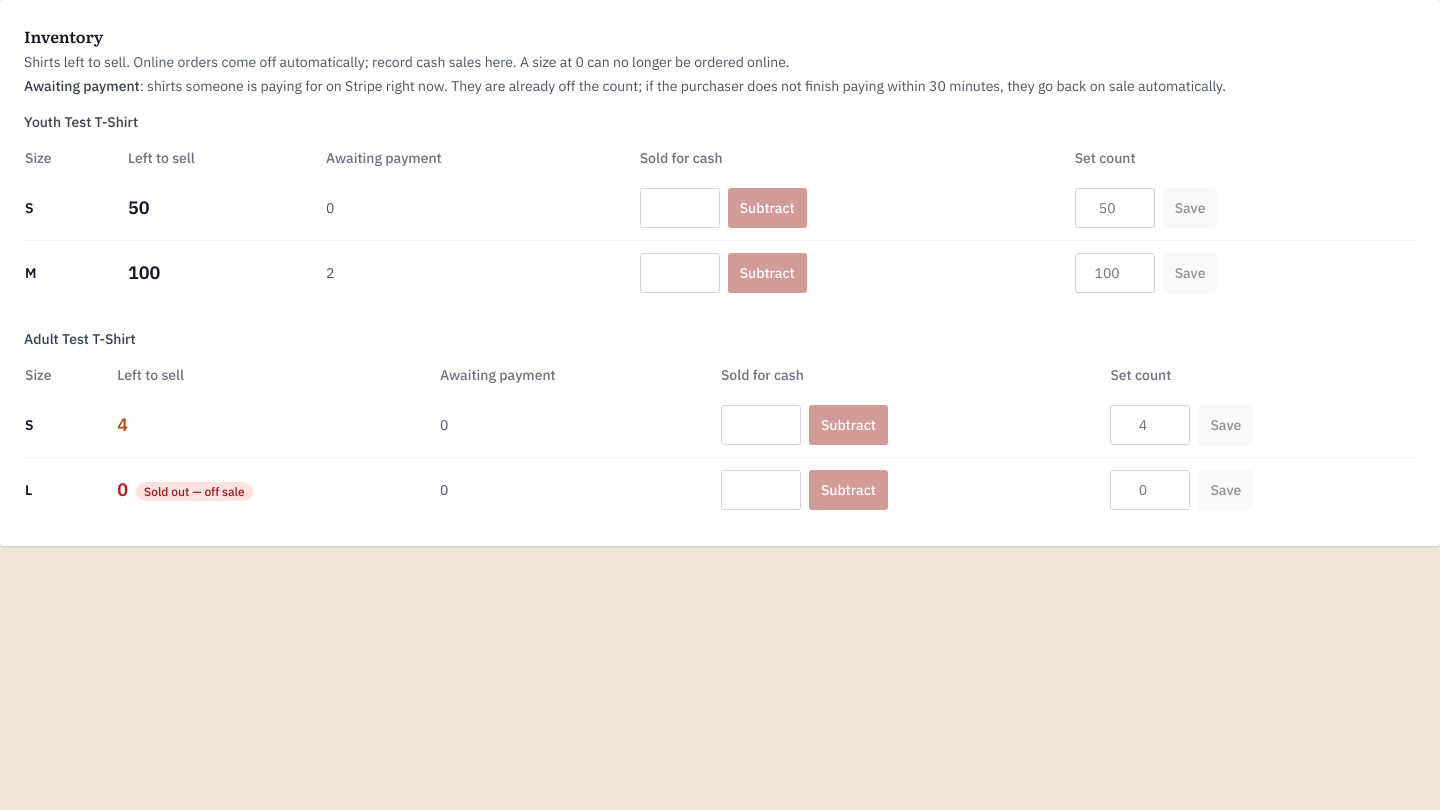
Scenario: MerchInventoryPanel › shows the new count and explains when an online order got there first
Step 1. Type "6" into the number field named "Shirts sold for cash, Youth Test T-Shirt size M" → (680, 273), box [640,253,720,293]
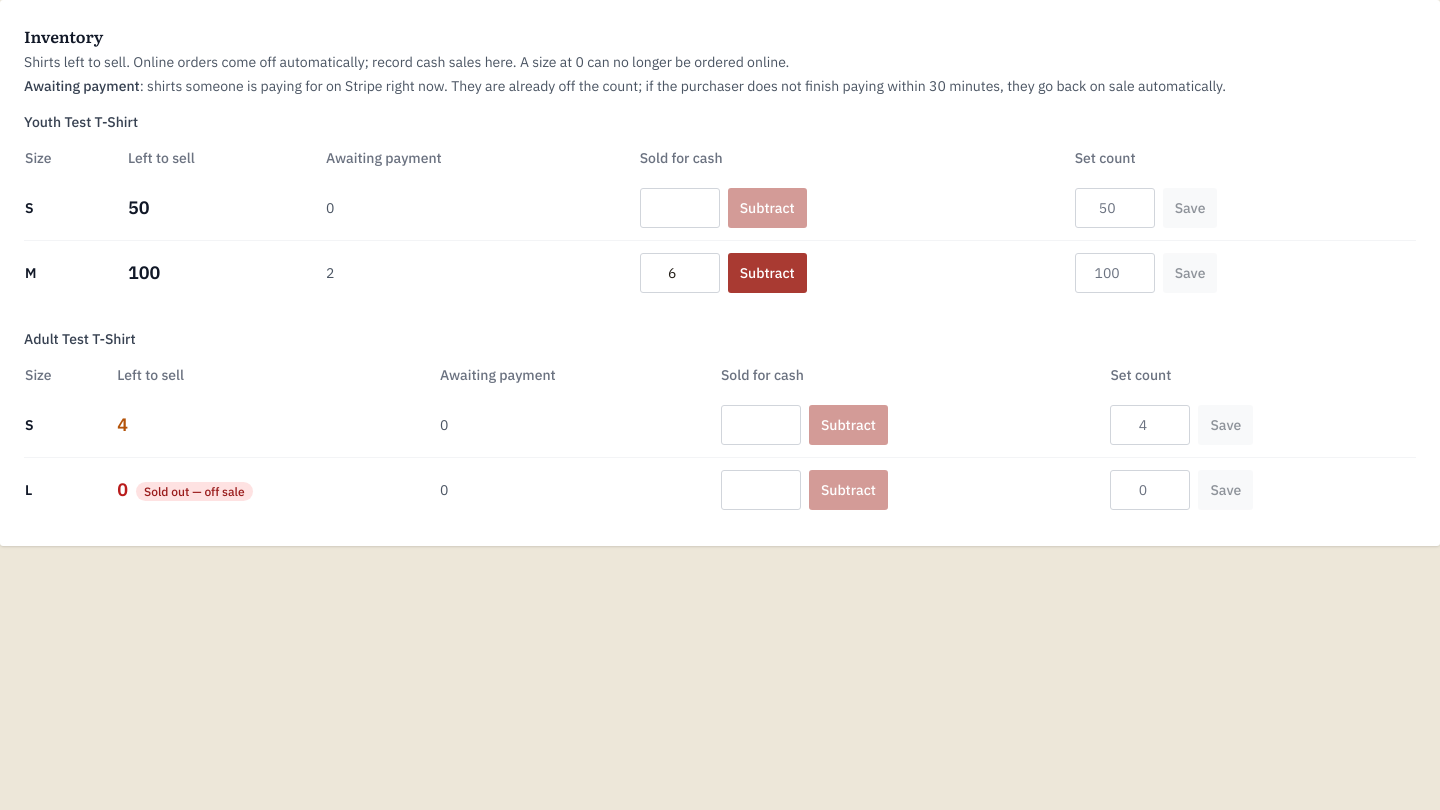
Step 2. Click the button "Subtract" in the row of "100" → (767, 273), box [728,253,807,293]
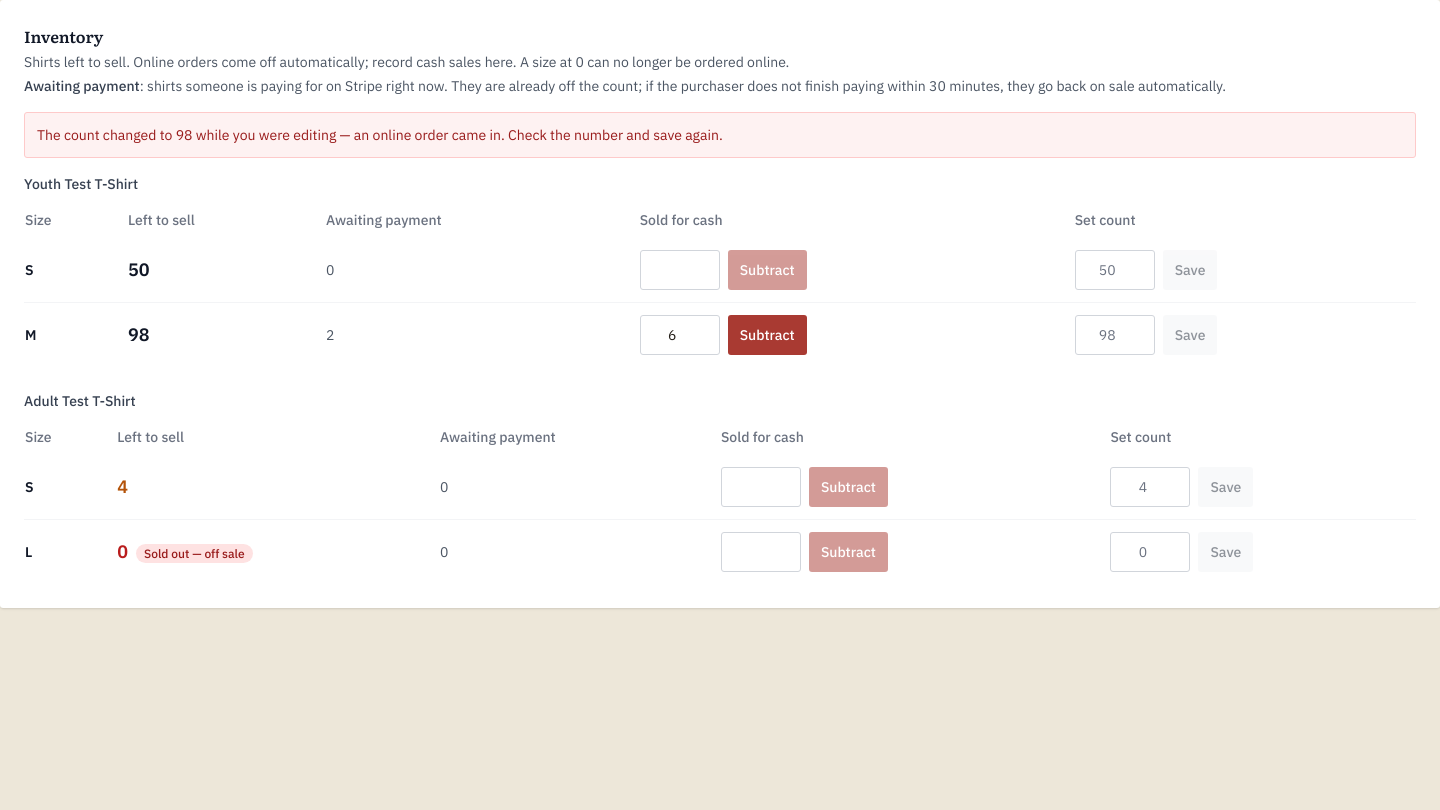
Check: the message shows "changed to 98", box [37,126,723,144]
